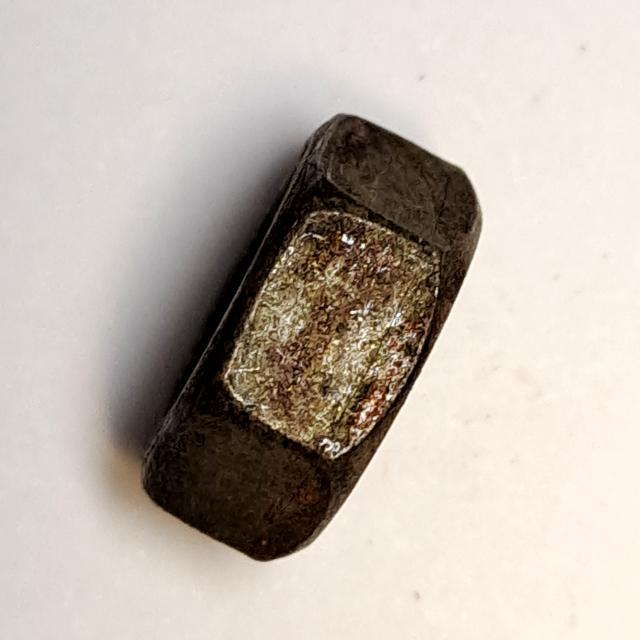Side_Rust: (128, 100, 494, 576)
